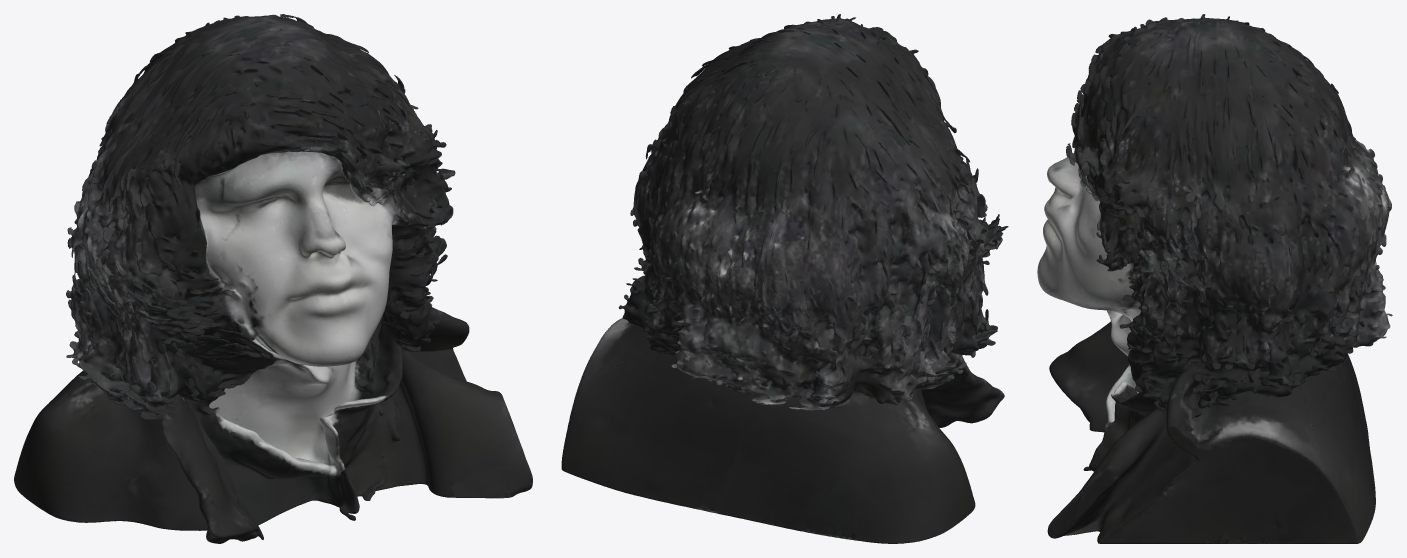
The model's file is portrait_3d_model_compressed.glb.
The picture shows the model from 3 angles, left to right: view 1: azimuth 30°, elevation 25°; view 2: azimuth 150°, elevation 25°; view 3: azimuth 270°, elevation 25°; orthographic projection. The views are drawn at different scales.
Parts seen in each view (by area): view 1: tripo_node_af049508-dc6d-4ee7-84cd-0667f36657de; view 2: tripo_node_af049508-dc6d-4ee7-84cd-0667f36657de; view 3: tripo_node_af049508-dc6d-4ee7-84cd-0667f36657de.
Part boxes in pixels (box(x1,y1,x2,y2)): tripo_node_af049508-dc6d-4ee7-84cd-0667f36657de: box(14, 14, 532, 543); tripo_node_af049508-dc6d-4ee7-84cd-0667f36657de: box(561, 14, 1008, 543); tripo_node_af049508-dc6d-4ee7-84cd-0667f36657de: box(1037, 14, 1392, 543).
Size of the model in its own units: 0.8806 by 1 by 0.7519.
Materials: 1 (1 with a texture image).
